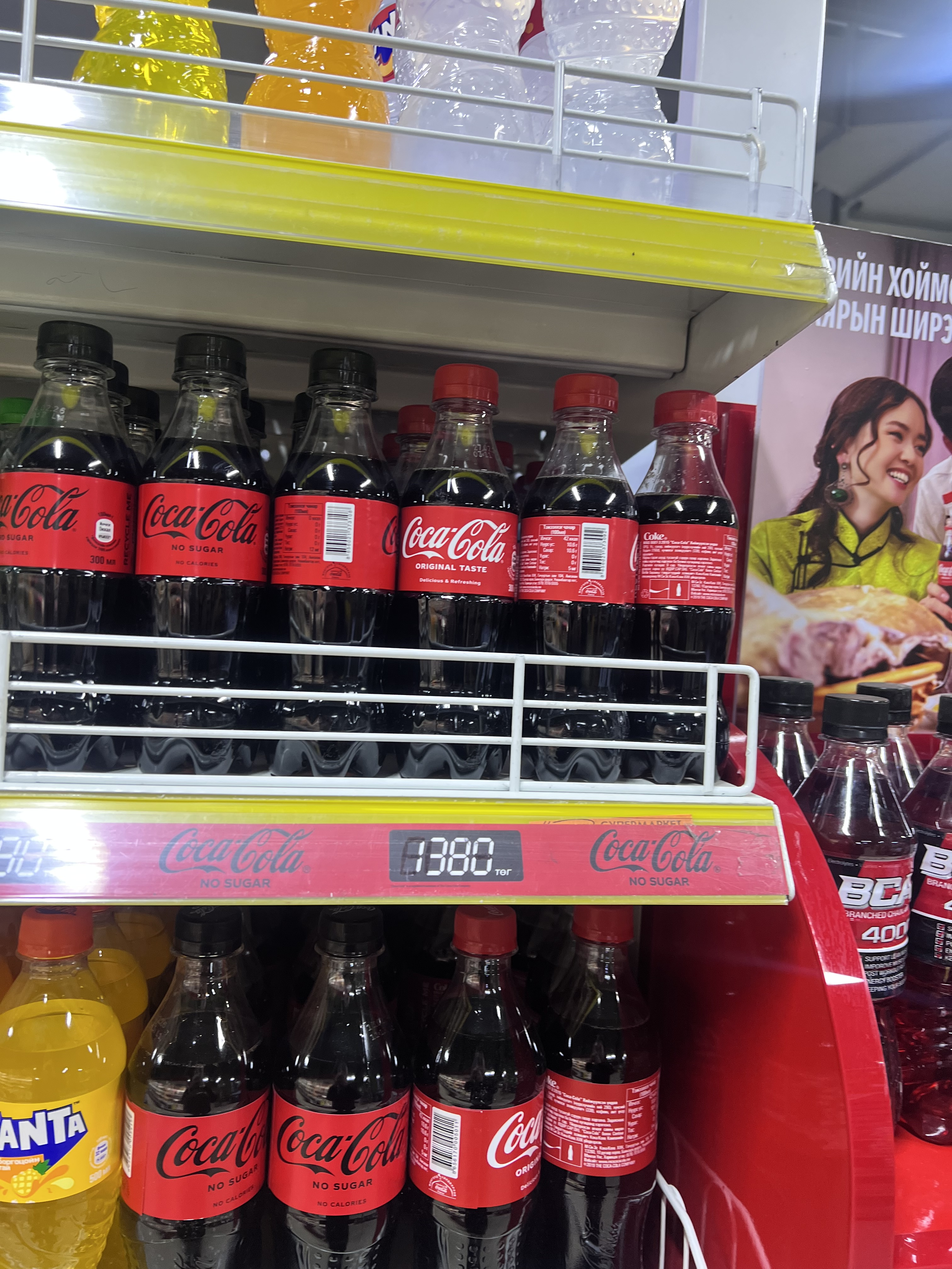coca_cola_500ml: (269, 348, 399, 776), (121, 906, 269, 1269), (136, 334, 270, 729), (269, 907, 411, 1269), (642, 362, 773, 745), (518, 374, 638, 782), (410, 905, 544, 1269), (530, 905, 659, 1269), (0, 321, 139, 634), (391, 364, 518, 697)
